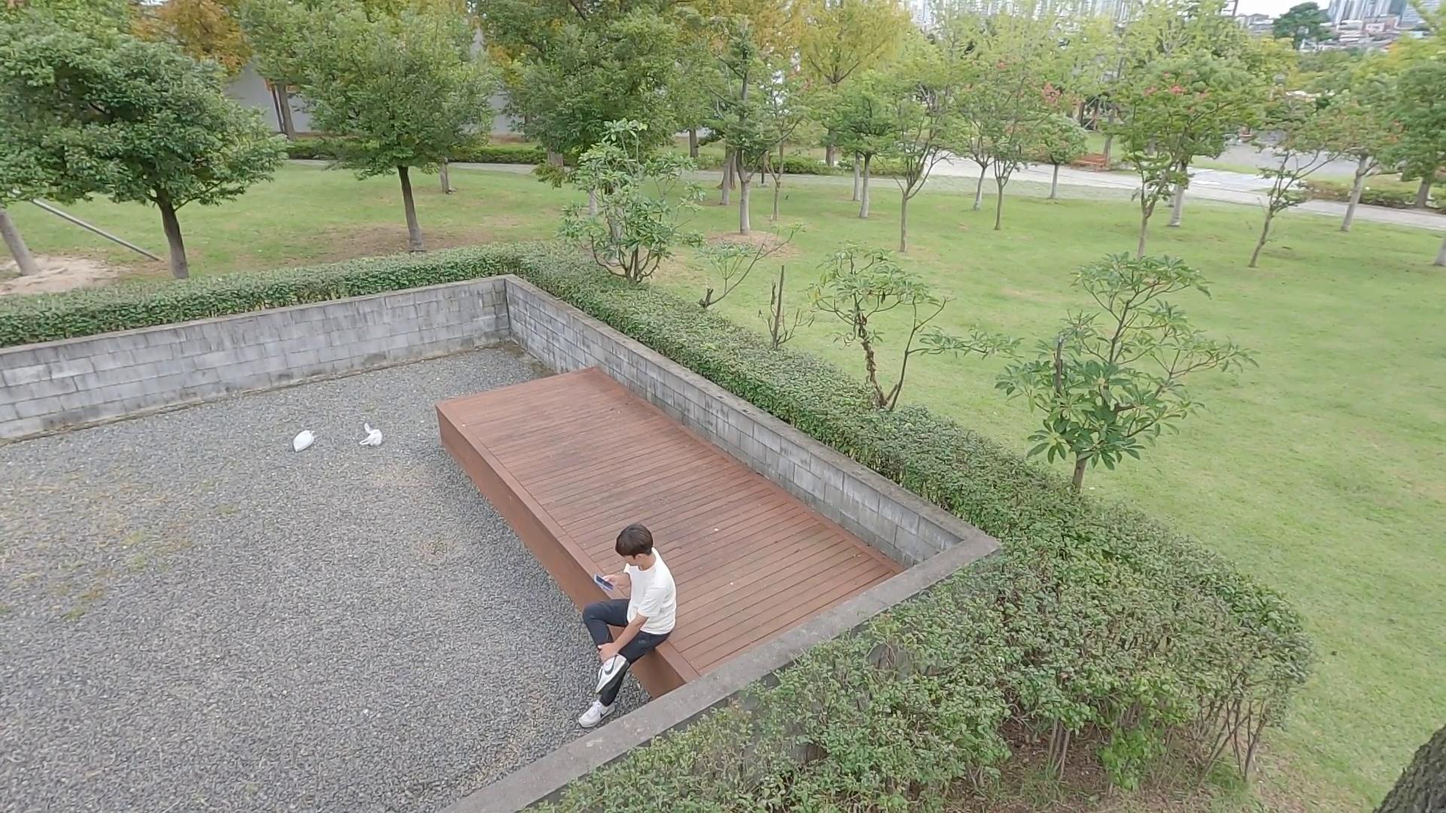person: (576, 523, 680, 729)
trash: (359, 423, 384, 449), (289, 431, 316, 453)
